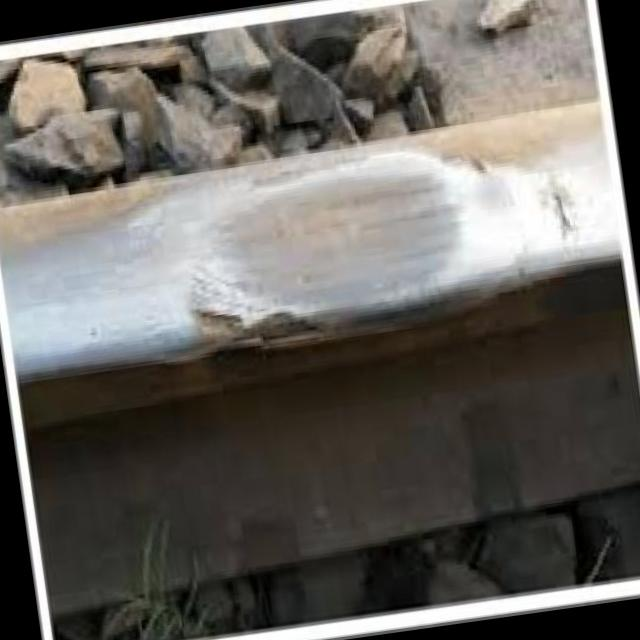defective: (58, 38, 603, 490)
